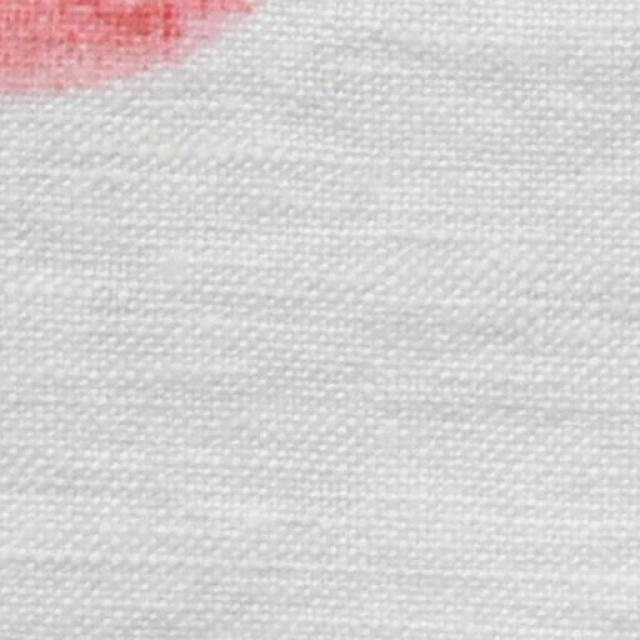Stain: (0, 0, 261, 98)
